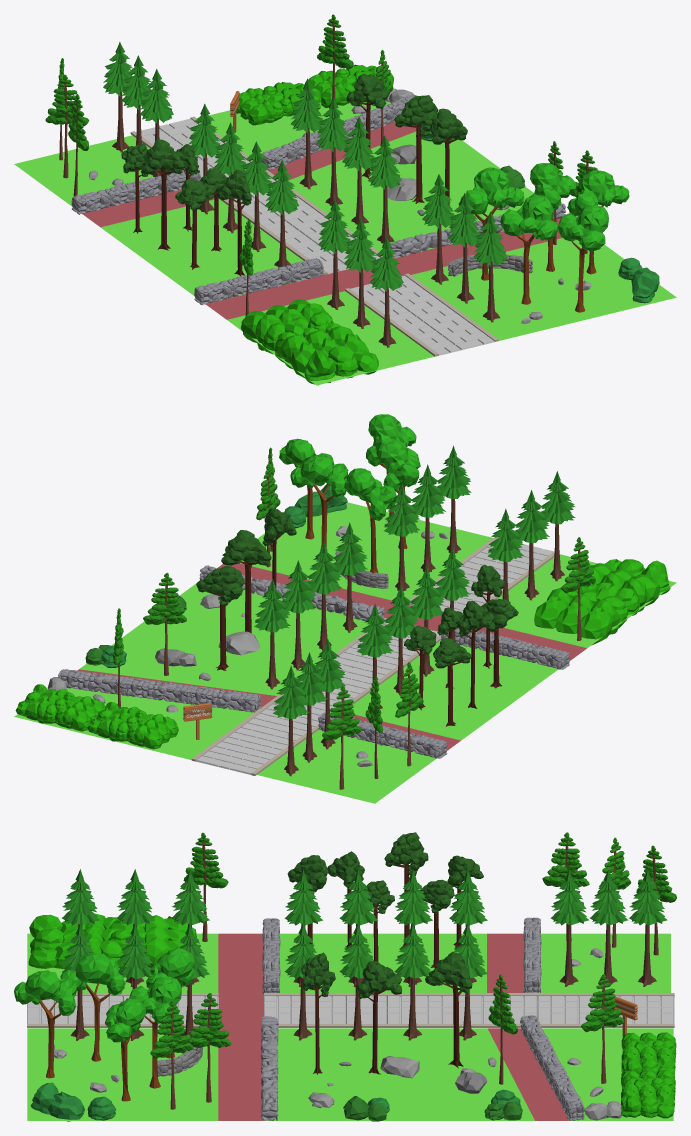
The model's file is CityHall_ParkTrail.fbx.
3 views of the same model, one above another, from view 1: azimuth 30°, elevation 25°; view 2: azimuth 150°, elevation 25°; view 3: azimuth 270°, elevation 25° (orthographic). The views are drawn at different scales.
Parts seen in each view (by area): view 1: Ground, Bush.01, TreeA.001, Road.01, Road.02, TreeA, TreeA.003, TreeA.002, Bush.002, TreeA.004, Stonewall.002, TreeD.002 (+23 smaller); view 2: Ground, Road.02, Bush.01, TreeA.001, Bush.002, TreeA, TreeA.003, TreeA.002, TreeA.004, Stonewall.003, Road.01, Stonewall.002 (+25 smaller); view 3: Ground, Road.02, TreeA.001, Bush.01, TreeA, TreeA.004, Bush.002, TreeA.002, TreeA.003, Road.01, TreeD.003, Stonewall.003 (+34 smaller).
Boxes of the visible parts, x1,y1,x2,y2 form: Ground: (14,101,676,385); Bush.01: (240,299,378,385); TreeA.001: (290,78,401,243); Road.01: (345,273,498,356); Road.02: (130,116,382,275); TreeA: (188,103,299,267); TreeA.003: (422,174,507,322); TreeA.002: (318,199,403,347); Bush.002: (236,64,393,125); TreeA.004: (103,42,173,177); Stonewall.002: (194,258,323,304); TreeD.002: (500,195,558,304); Ground: (14,502,676,803); Road.02: (191,618,441,775); Bush.01: (534,559,670,645); TreeA.001: (254,522,367,689); Bush.002: (15,684,178,749); TreeA: (357,547,470,708); TreeA.003: (384,445,471,591); TreeA.002: (487,471,575,600); TreeA.004: (273,639,345,776); Stonewall.003: (58,669,260,712); Road.01: (409,537,554,613); Stonewall.002: (441,627,569,669); Ground: (27,933,673,1120); Road.02: (264,993,674,1027); TreeA.001: (284,922,487,1040); Bush.01: (28,913,196,968); TreeA: (284,869,487,987); TreeA.004: (550,869,667,986); Bush.002: (620,1032,676,1118); TreeA.002: (62,869,209,986); TreeA.003: (62,923,209,1040); Road.01: (27,993,218,1027); TreeD.003: (14,970,76,1078); Stonewall.003: (520,1015,584,1120).
Bounding box in the file's own units: 1973 × 611 × 2896.
